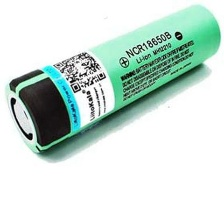battery: (3, 2, 220, 158)
